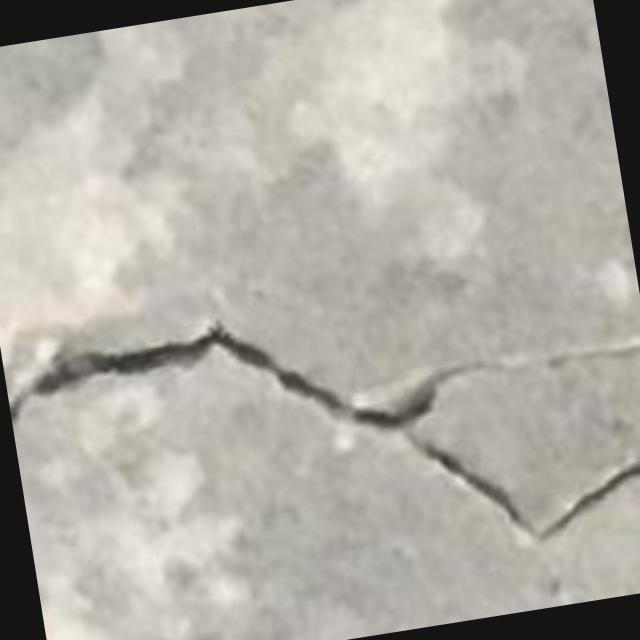crack: (9, 323, 639, 431)
peeling plaster: (35, 383, 242, 639)
